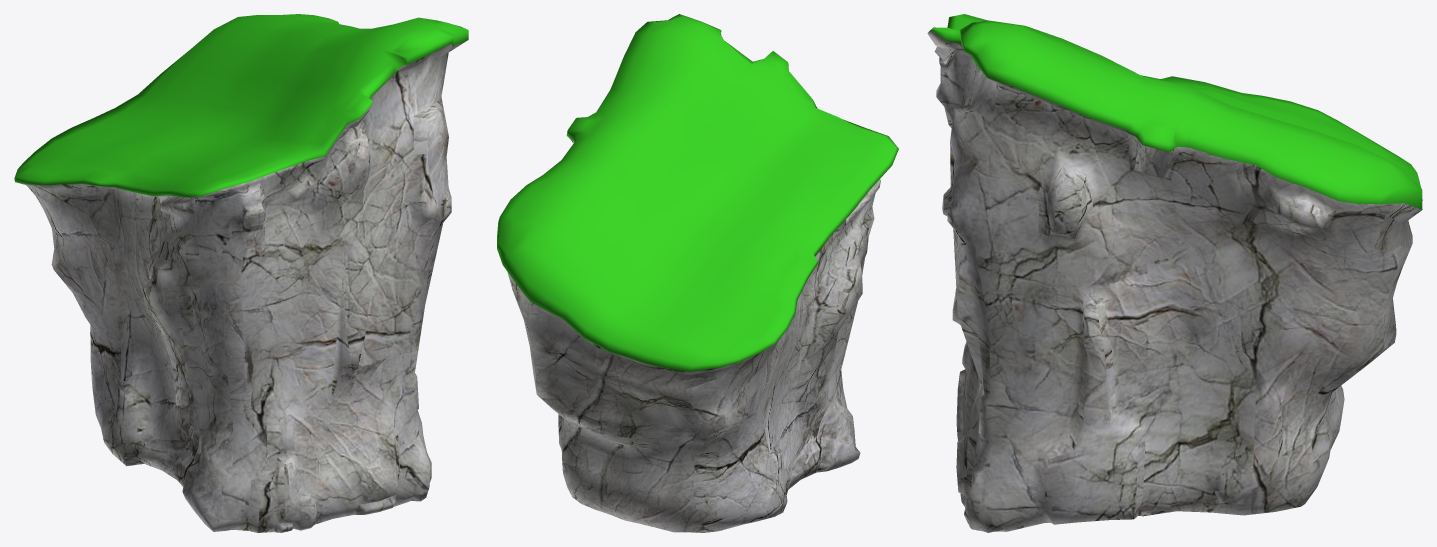
Rendered from SM_RockSlope.FBX.
3 renders of one model, left to right at view 1: azimuth 30°, elevation 25°; view 2: azimuth 150°, elevation 25°; view 3: azimuth 270°, elevation 25°, orthographic. The views are drawn at different scales.
Visible parts, largest first — view 1: Slope; view 2: Slope; view 3: Slope.
Boxes of the visible parts, left/top/right/bottom form: Slope: left=14, top=14, right=468, bottom=532; Slope: left=497, top=14, right=898, bottom=532; Slope: left=927, top=14, right=1422, bottom=532.
Size of the model in its own units: 1305 by 1847 by 1630.
Materials: 2 (1 with a texture image).
